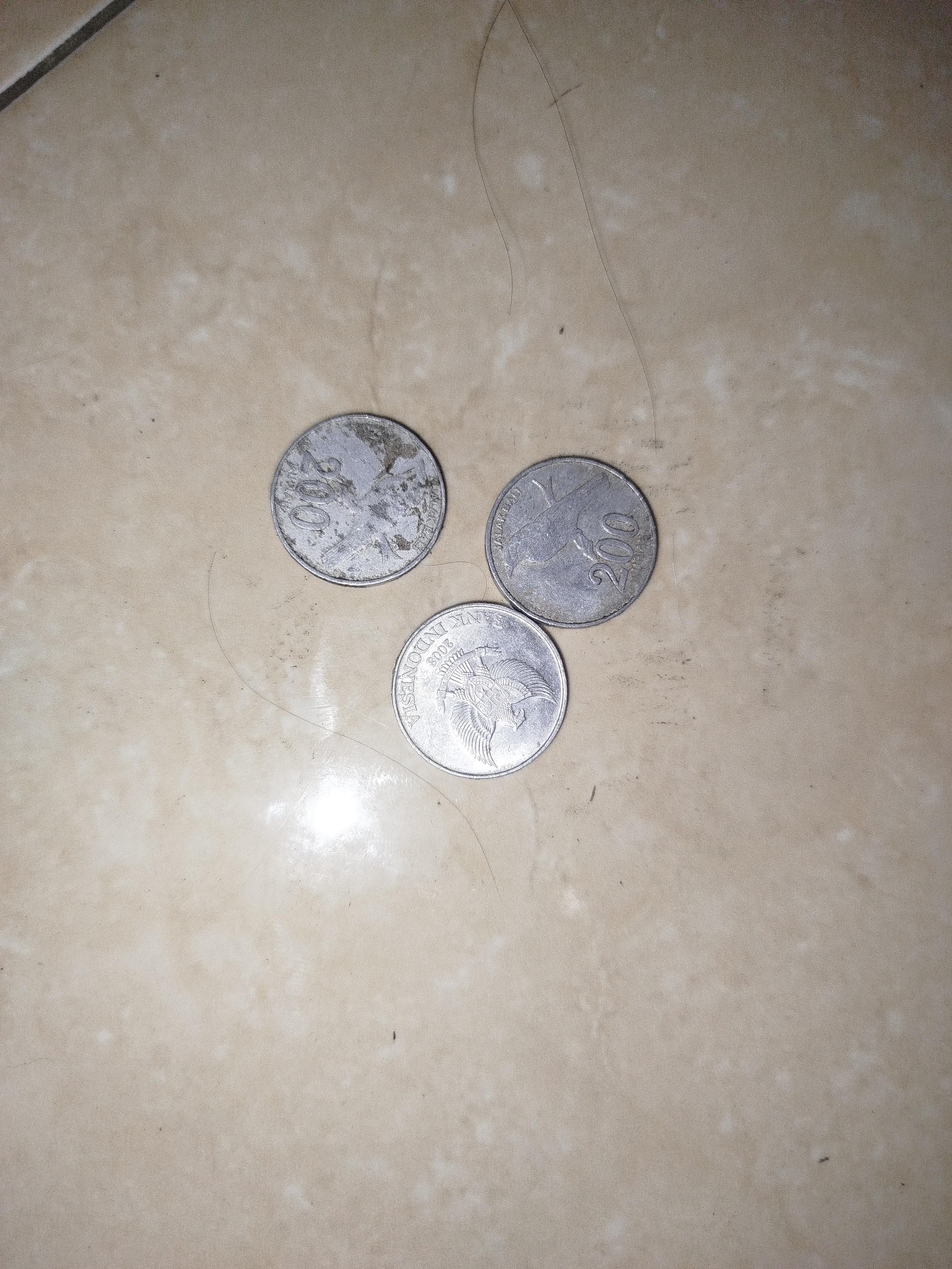coin_200_e2003: (391, 602, 569, 780), (271, 413, 446, 587), (484, 455, 659, 628)
